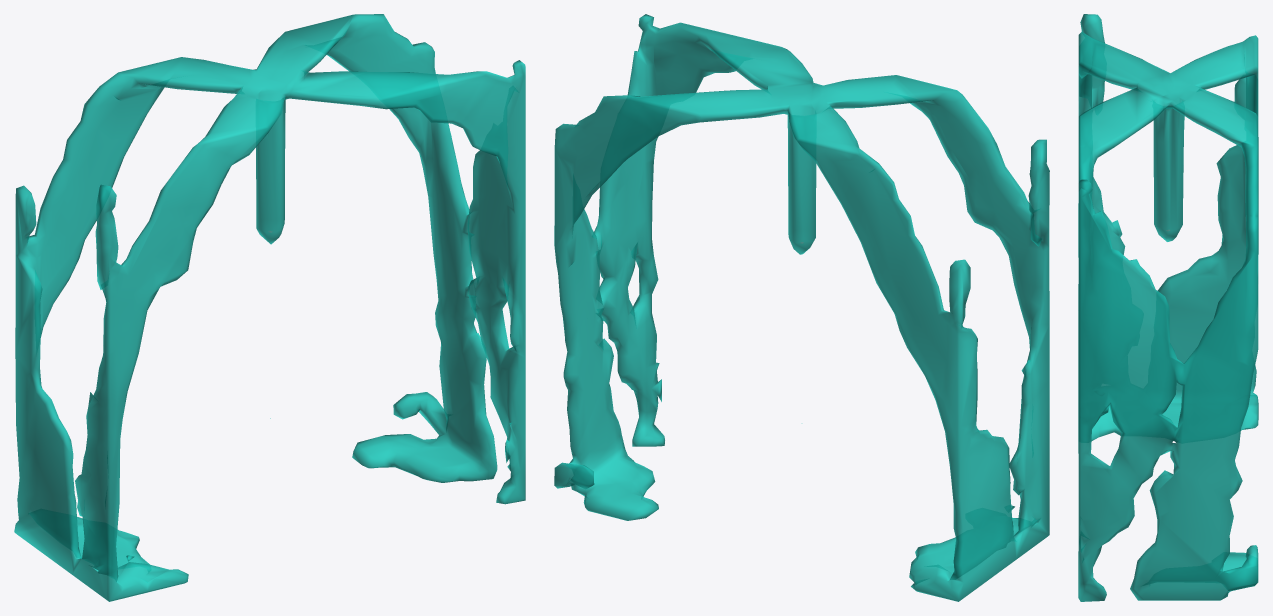
3 renders of one model, left to right at view 1: azimuth 30°, elevation 25°; view 2: azimuth 150°, elevation 25°; view 3: azimuth 270°, elevation 25°, orthographic. The views are drawn at different scales.
Parts seen in each view (by area): view 1: Liquid_Domain; view 2: Liquid_Domain; view 3: Liquid_Domain.
Part boxes in pixels (x1=…): Liquid_Domain: x1=14, y1=14, x2=525, y2=601; Liquid_Domain: x1=554, y1=14, x2=1049, y2=601; Liquid_Domain: x1=1078, y1=14, x2=1258, y2=601.
Size of the model in its own units: 884 by 884 by 345.
